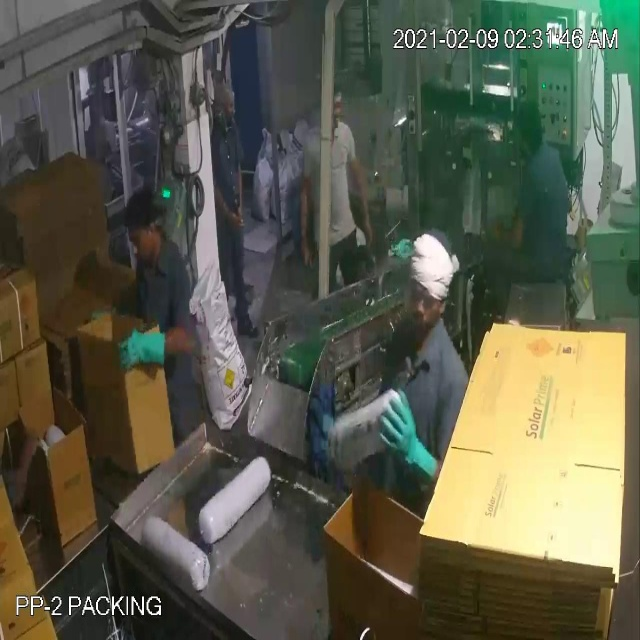Guantes: (364, 382, 453, 484), (112, 326, 177, 374)
Sin_guantes: (474, 181, 539, 262), (342, 134, 383, 260), (4, 412, 45, 529), (292, 169, 324, 277), (209, 179, 242, 232), (229, 156, 252, 225)
